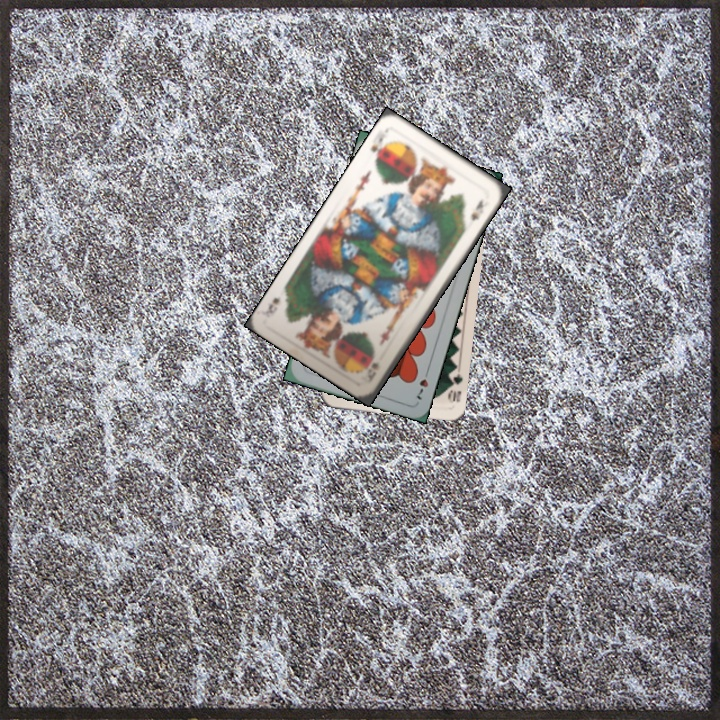G10: (444, 369, 465, 406)
H7: (413, 364, 432, 402)
SK: (366, 133, 391, 165), (363, 358, 381, 386)
